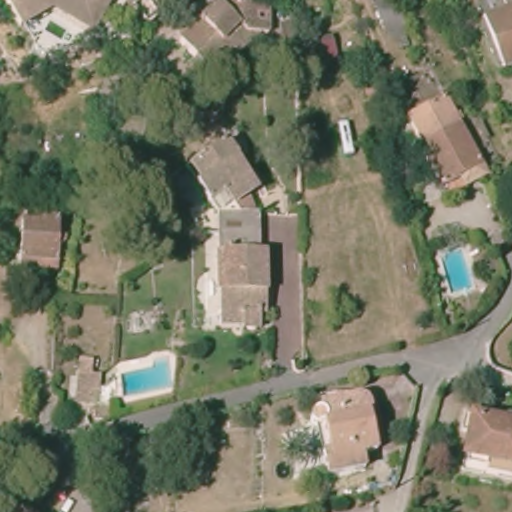pool: (115, 356, 178, 404), (436, 245, 480, 296)
